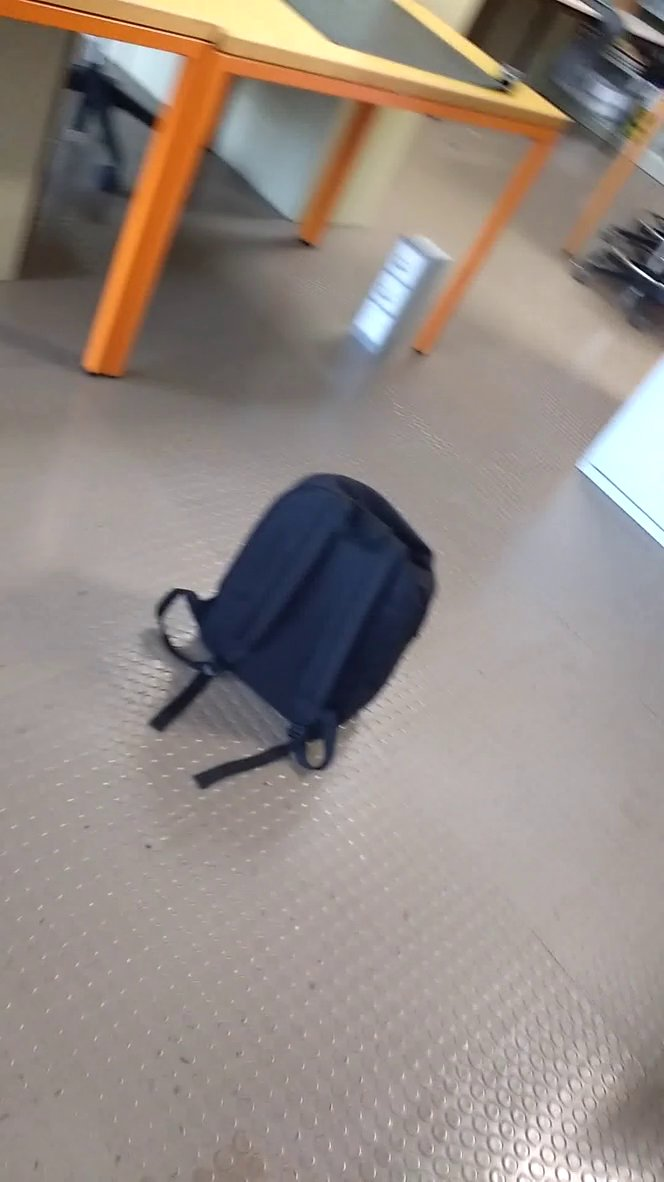bag: (135, 463, 458, 802)
